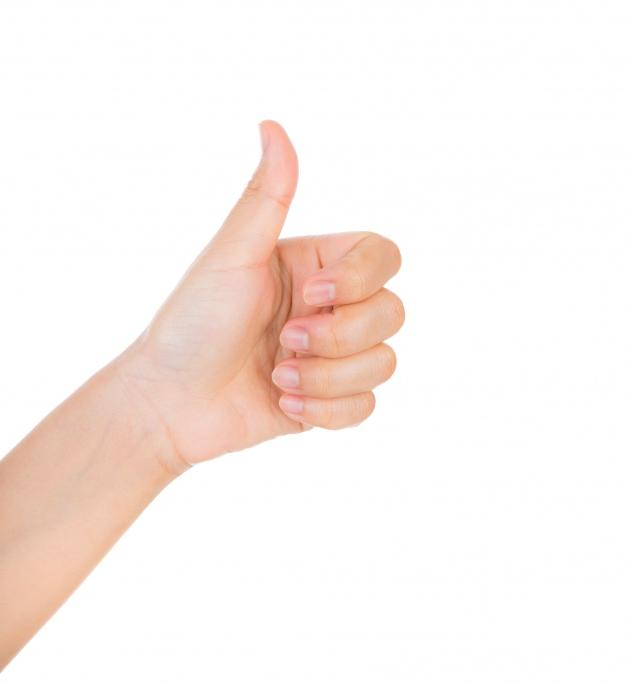thumbsup: (229, 120, 405, 432)
